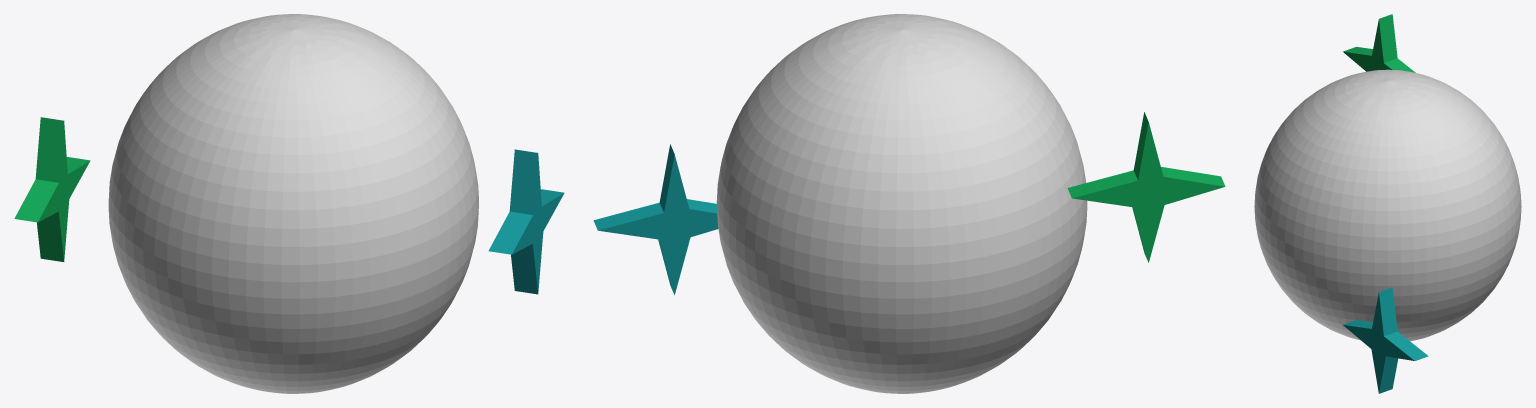
The model's file is ball.glb.
3 views of the same model, side by side, from view 1: azimuth 30°, elevation 25°; view 2: azimuth 150°, elevation 25°; view 3: azimuth 270°, elevation 25° (orthographic). The views are drawn at different scales.
Visible parts, largest first — view 1: disco, Star.001, Star; view 2: disco, Star, Star.001; view 3: disco, Star.001, Star.
Part boxes in pixels (x1,y1,x2,y2): disco: (108,14,478,393); Star.001: (488,149,564,294); Star: (14,117,90,261); disco: (716,14,1087,393); Star: (1067,112,1225,262); Star.001: (593,144,718,294); disco: (1254,69,1521,341); Star.001: (1343,287,1428,393); Star: (1343,14,1415,72).
Size of the model in its own units: 7 by 3.93 by 3.8.
